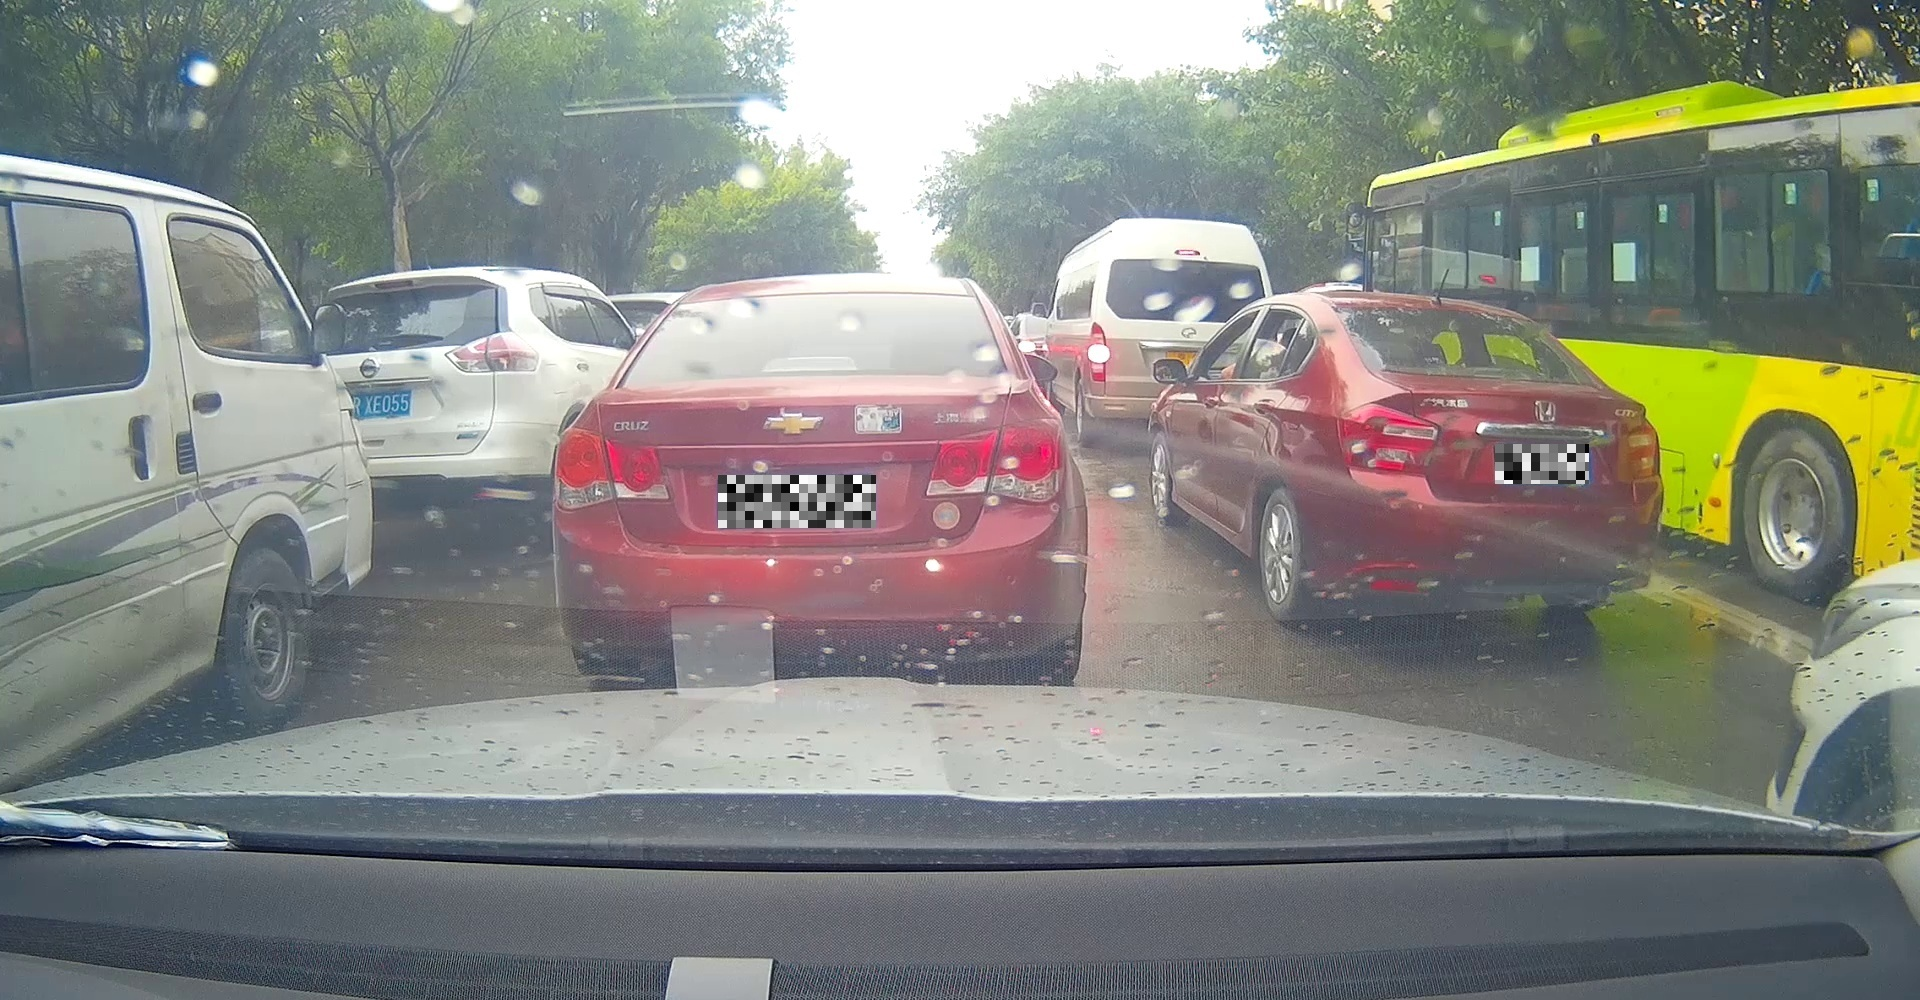L_light: (554, 426, 670, 508), (1336, 402, 1439, 477)
R_light: (924, 418, 1065, 503), (1615, 419, 1660, 478)
T_light: (763, 357, 858, 371), (1468, 365, 1530, 379)
day-no: (551, 272, 1090, 681), (1330, 292, 1663, 624)
plate_1: (717, 475, 876, 528)
plate_2: (1495, 444, 1589, 484)
